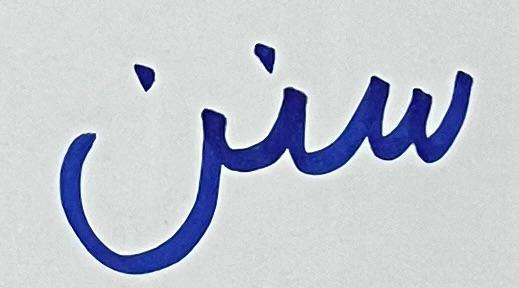noon: (44, 50, 229, 278), (232, 34, 313, 185)
seen: (315, 48, 476, 184)
